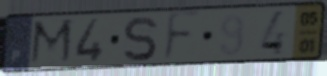4: (72, 16, 106, 64), (256, 9, 289, 58)
9: (218, 12, 249, 57)
F: (161, 9, 202, 66)
M: (27, 17, 76, 68)
S: (121, 14, 159, 63)
